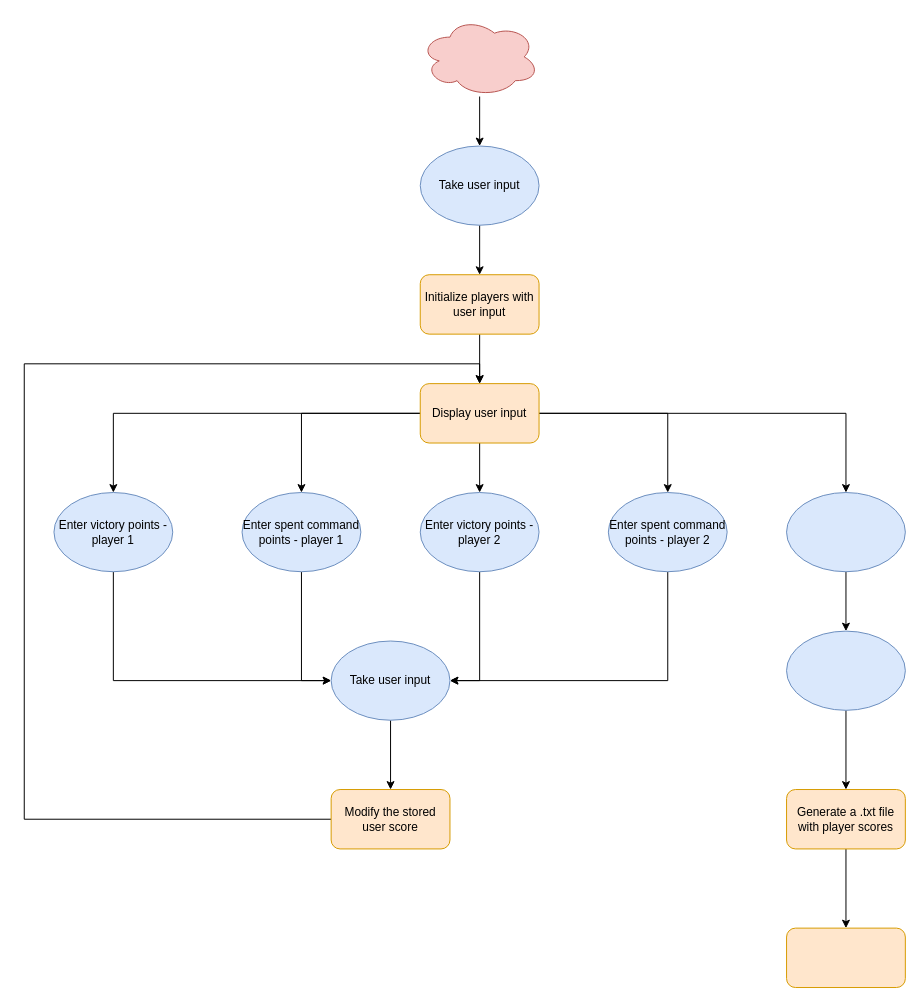
Image size: 923x1005. Some labels were removed from this diagram. Each missing label, with the centre of its shape:
Close the app: the point at 845,957
Finish: the point at 845,532
index.rb: the point at 479,56
Would you like to save?: the point at 845,670
